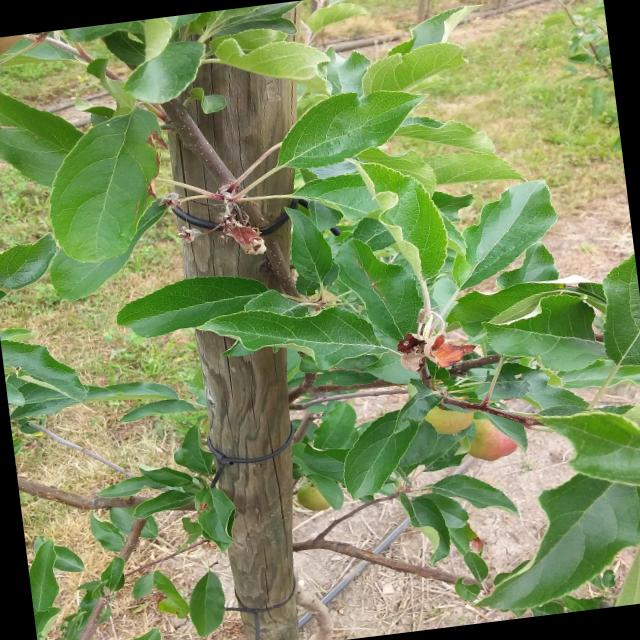-FireBlight-: (208, 178, 273, 260)
